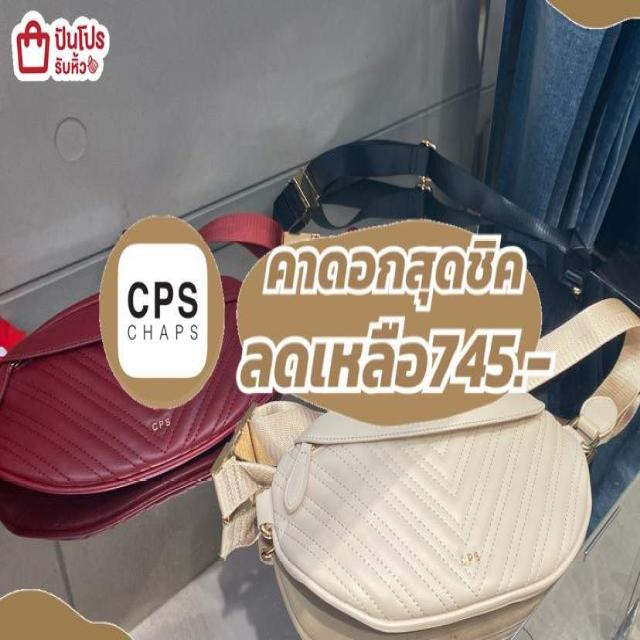Handbag: (252, 371, 625, 634)
